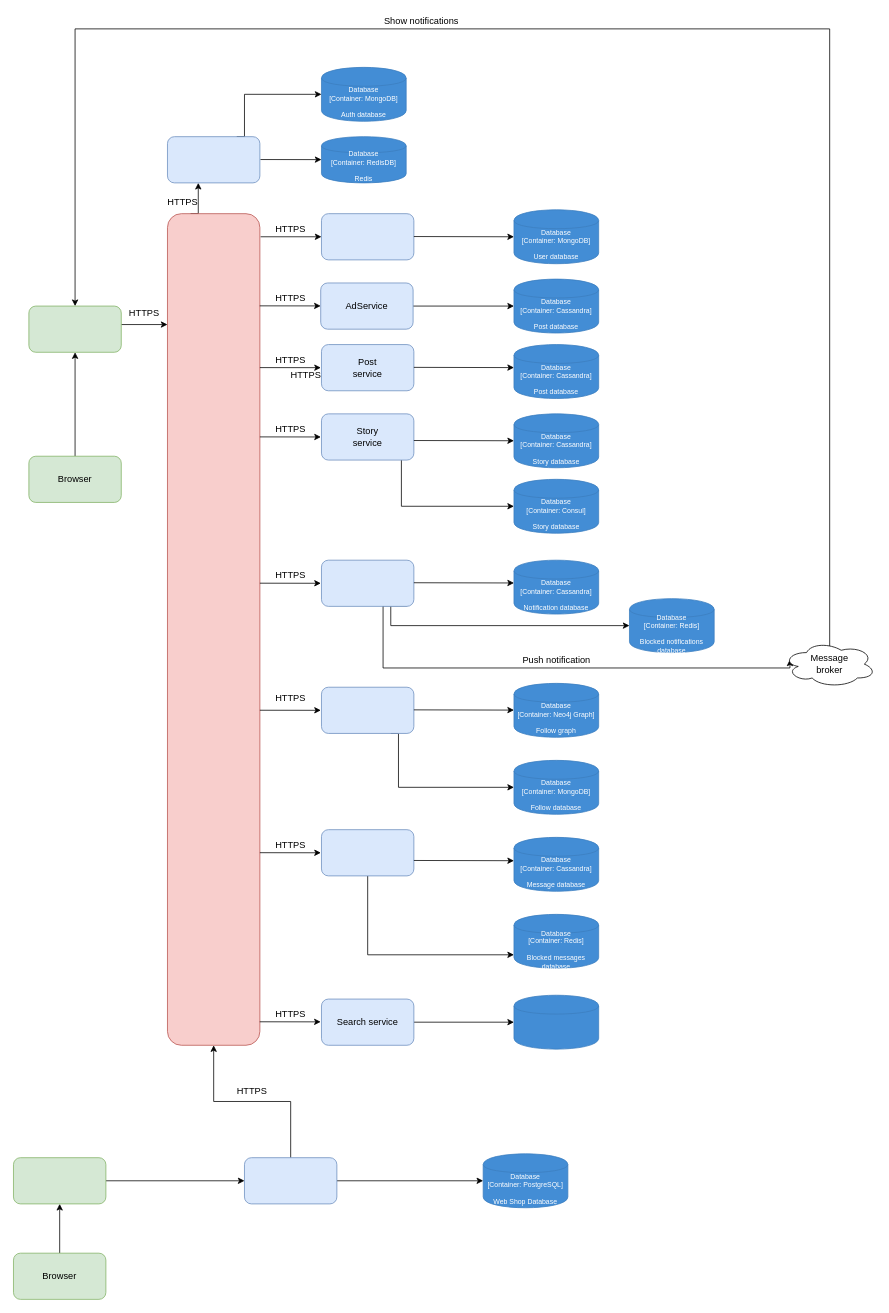
Some shapes in this 889 by 1313 pixel diagram are drawn without their labels. The shapes that lost their labels are listed below. From the top down, each one's centre as x and y in pixels, then its label:
pixel 213 159: Auth service
pixel 367 236: User service
pixel 74 328: Nishtagram UI
pixel 367 582: Notification service
pixel 213 629: API Gateway
pixel 367 709: Follow service
pixel 367 852: Message service
pixel 556 1021: Database [Container: MongoDB] Search database
pixel 59 1180: Web Shop UI
pixel 290 1180: Web Shop Backend
